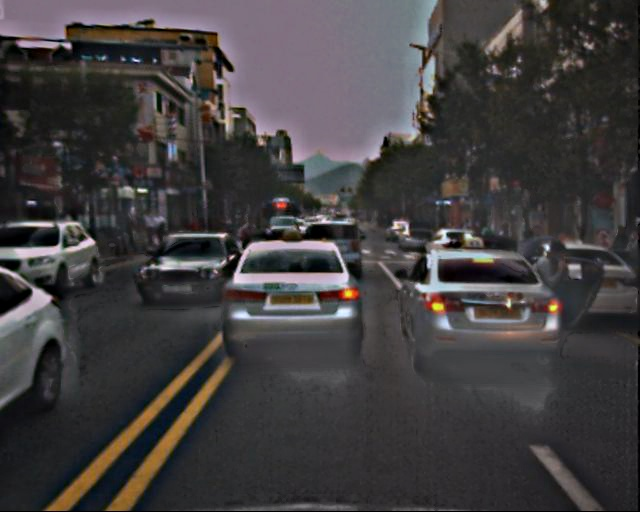person: (531, 244, 574, 349), (508, 227, 540, 305), (127, 209, 164, 245), (217, 211, 250, 249)
